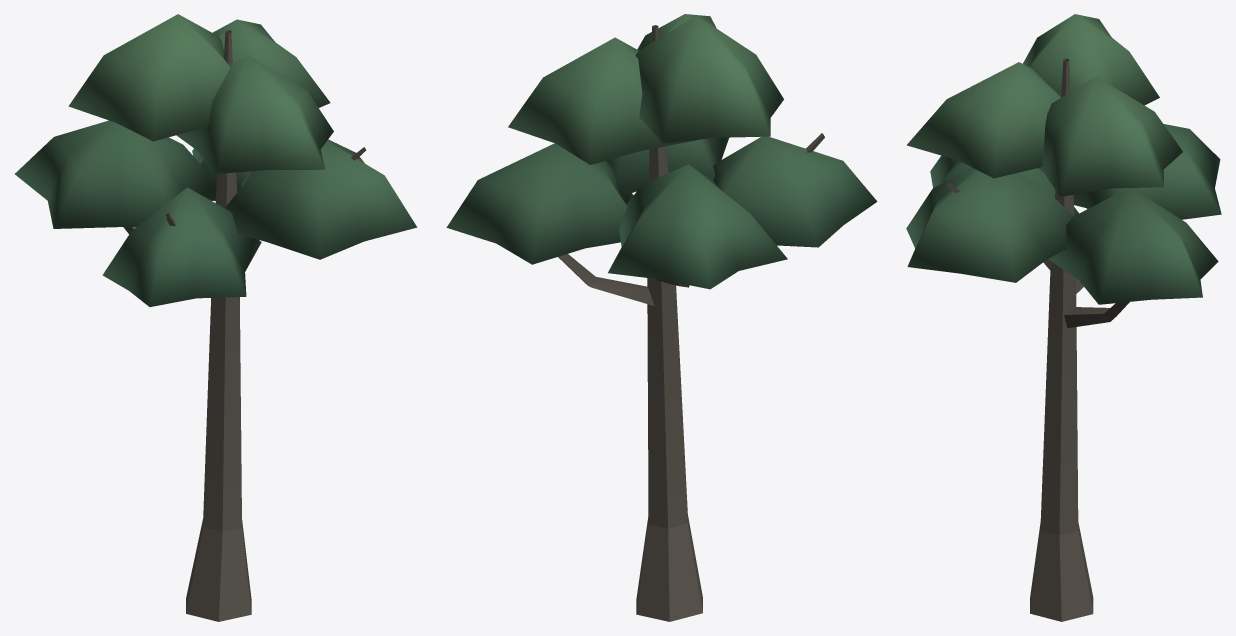
File: tree-broadleaf-2.glb
The picture shows the model from 3 angles, left to right: view 1: azimuth 30°, elevation 25°; view 2: azimuth 150°, elevation 25°; view 3: azimuth 270°, elevation 25°; orthographic projection. The views are drawn at different scales.
Visible parts, largest first — view 1: wood, leaves.001, leaves.003, leaves.005, leaves.002, leaves.006, leaves.004, leaves; view 2: wood, leaves, leaves.001, leaves.005, leaves.004, leaves.002, leaves.003, wood.001; view 3: leaves.003, wood, leaves, leaves.004, leaves.006, leaves.005, leaves.001, leaves.002, wood.001.
Boxes of the visible parts, left/top/right/bottom form: wood: left=186, top=30, right=251, bottom=621; leaves.001: left=15, top=120, right=210, bottom=228; leaves.003: left=225, top=139, right=417, bottom=259; leaves.005: left=68, top=14, right=230, bottom=141; leaves.002: left=102, top=187, right=261, bottom=306; leaves.006: left=176, top=55, right=333, bottom=173; leaves.004: left=212, top=19, right=330, bottom=107; leaves: left=192, top=148, right=251, bottom=200; wood: left=636, top=25, right=702, bottom=621; leaves: left=446, top=143, right=633, bottom=264; leaves.001: left=608, top=164, right=787, bottom=289; leaves.005: left=635, top=16, right=783, bottom=143; leaves.004: left=508, top=37, right=698, bottom=164; leaves.002: left=713, top=136, right=877, bottom=247; leaves.003: left=607, top=137, right=728, bottom=196; wood.001: left=558, top=254, right=654, bottom=305; leaves.003: left=906, top=167, right=1073, bottom=282; wood: left=1030, top=58, right=1093, bottom=621; leaves: left=1048, top=188, right=1218, bottom=304; leaves.004: left=1038, top=76, right=1182, bottom=196; leaves.006: left=907, top=62, right=1060, bottom=178; leaves.005: left=1023, top=14, right=1159, bottom=105; leaves.001: left=1073, top=124, right=1221, bottom=219; leaves.002: left=930, top=155, right=1078, bottom=215; wood.001: left=1064, top=302, right=1129, bottom=328.
Size of the model in its own units: 4.31 by 8.52 by 4.22.
